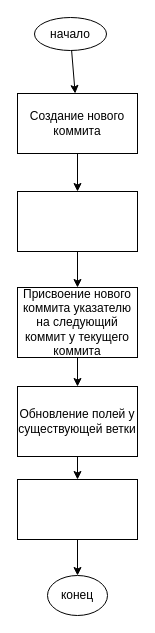
Image size: 155x633. Some labels were removed from this diagram. The centre of each missing label's shape, as x and y in pixels:
"Запись изменений в коммит" goes at (77,221).
"Создание новой ветки" goes at (77,509).
